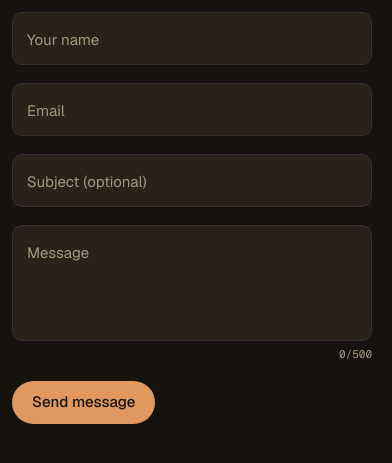
Scenario: FloatingLabelForm — validation › flags an email that doesn't look like one
Type "ada@" into the field labelled "Email" at (192, 110), box x1=12 y1=83 x2=372 y2=136
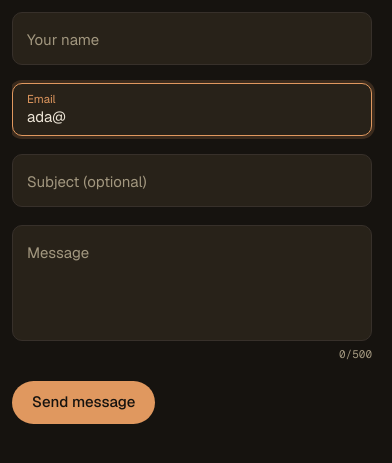
Press Tab
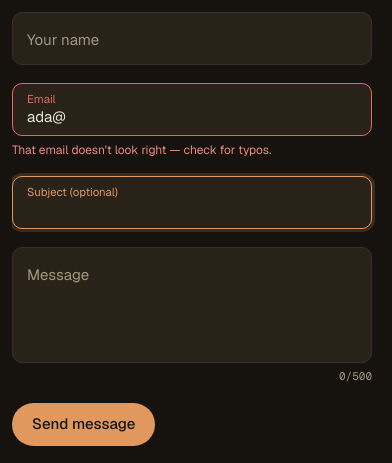
Expected: the text "That email doesn't look right — check for typos." is shown, x1=12 y1=142 x2=272 y2=158
